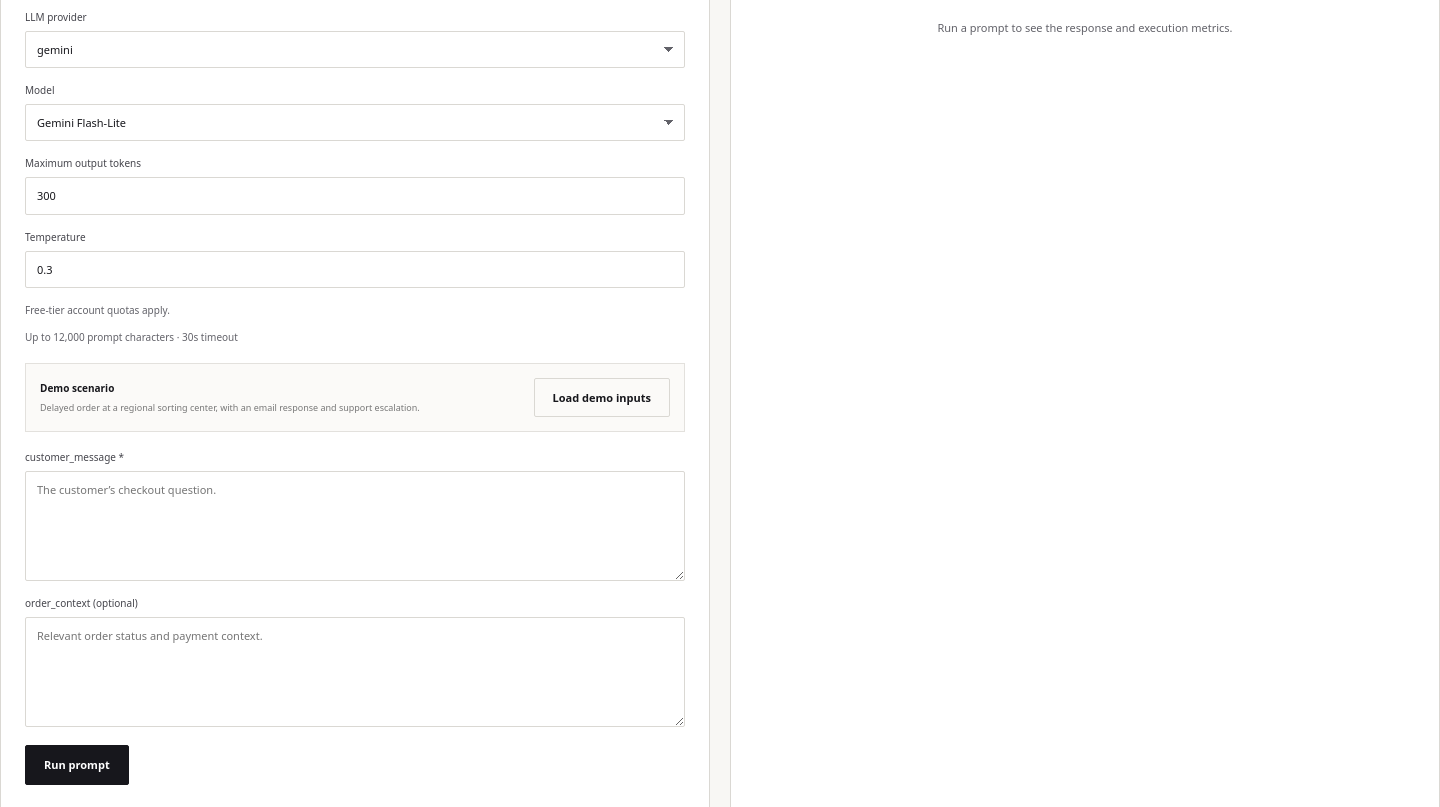
Playground run states › displays a successful free Gemini run without charging
This screenshot has width=1440, height=807.
(page scrolled)
Type "Please check my order" into the text box labelled "customer_message *". click: [355, 526]
box: 25,471 -> 685,581
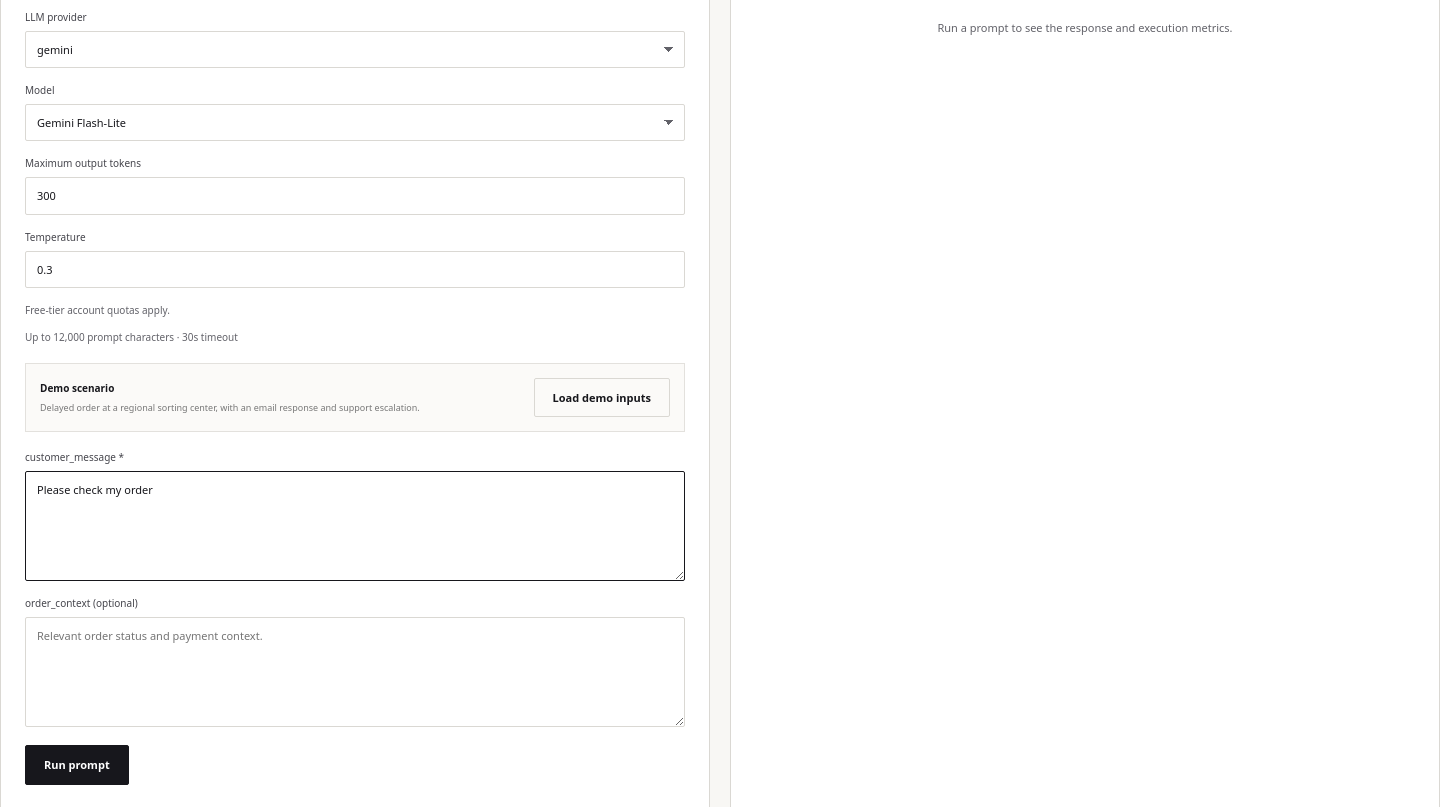
Click the button "Run prompt". click: [77, 765]
box: 25,745 -> 129,785
(page scrolled)
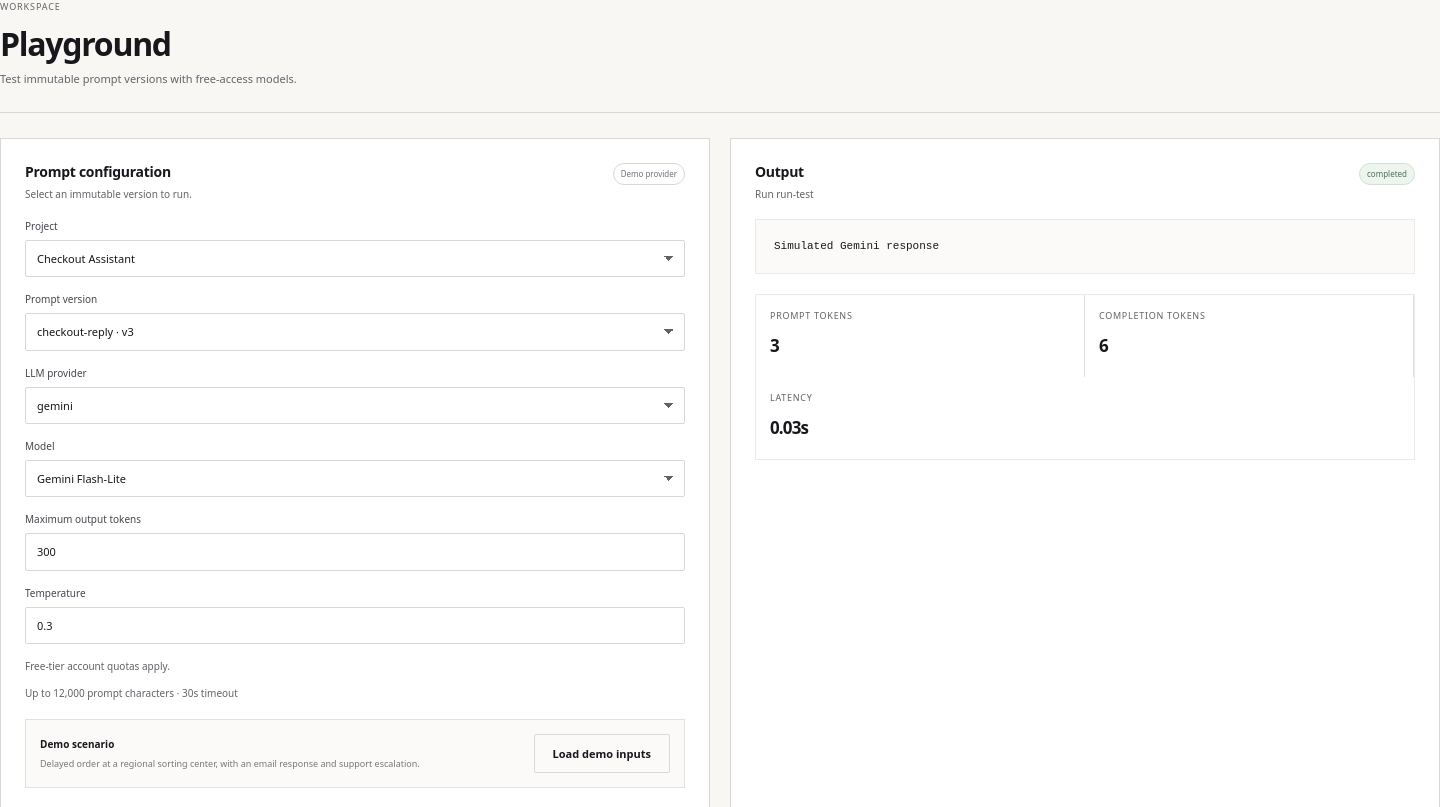
Now the text "completed" is shown, box 1359,163 -> 1415,185
